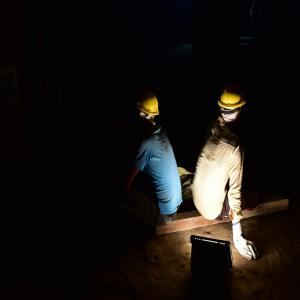yellow: (218, 78, 246, 130), (136, 85, 160, 132)
